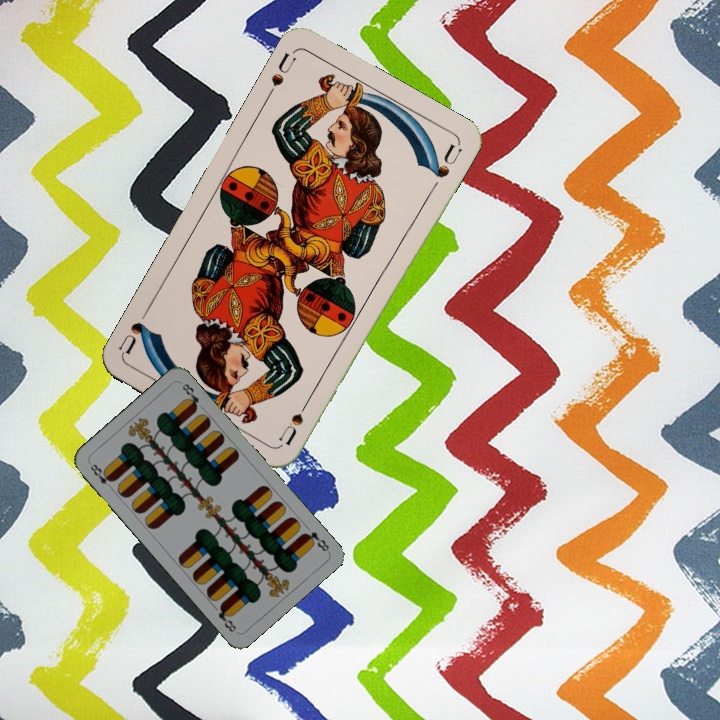E8: (85, 459, 117, 493), (299, 527, 332, 554)
SU: (275, 391, 315, 448), (262, 48, 299, 102)
